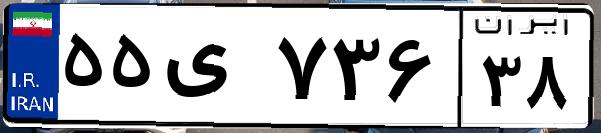3: (330, 28, 385, 110), (475, 38, 525, 113)
5: (57, 26, 110, 100), (110, 28, 158, 98)
6: (385, 28, 445, 110)
7: (270, 28, 330, 110)
8: (525, 38, 570, 115)
ی: (158, 20, 270, 120)
